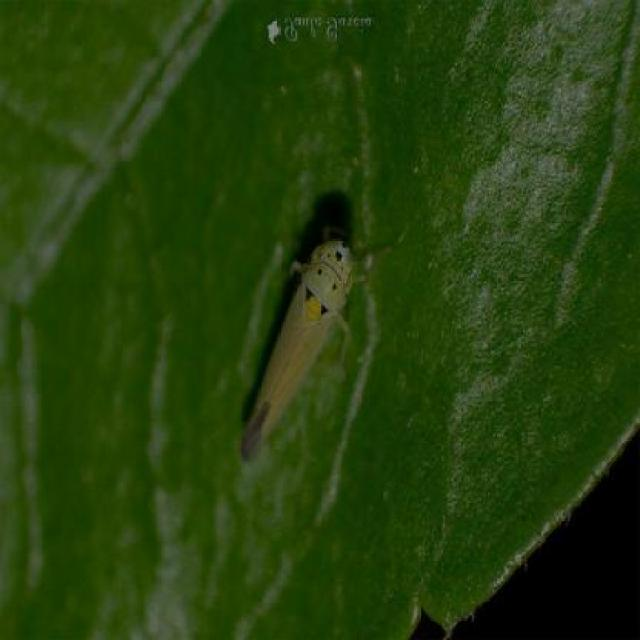green-leafhopper: (242, 225, 378, 457)
